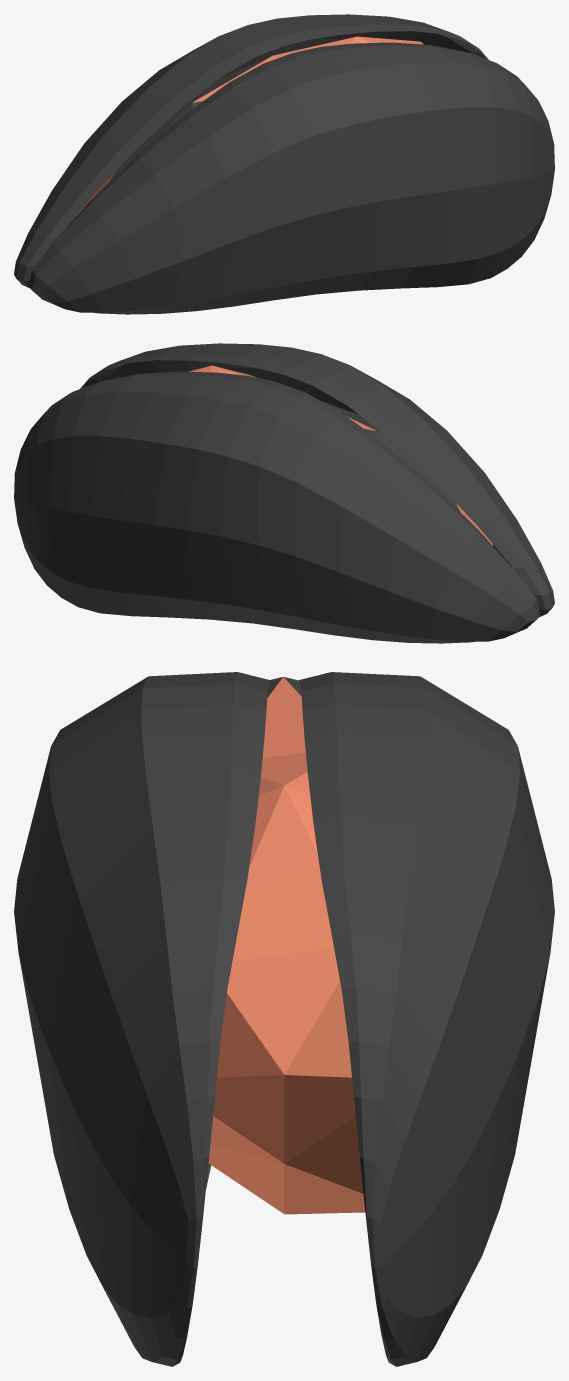
Rendered from Mussel.fbx.
3 renders of one model, top to bottom at view 1: azimuth 30°, elevation 25°; view 2: azimuth 150°, elevation 25°; view 3: azimuth 270°, elevation 25°, orthographic. The views are drawn at different scales.
Visible parts, largest first — view 1: Mussel; view 2: Mussel; view 3: Mussel.
Boxes of the visible parts, bbox=[...] form: Mussel: bbox=[14, 14, 554, 314]; Mussel: bbox=[14, 343, 554, 643]; Mussel: bbox=[14, 672, 554, 1366].
Size of the model in its own units: 25.14 by 11.68 by 11.72.
